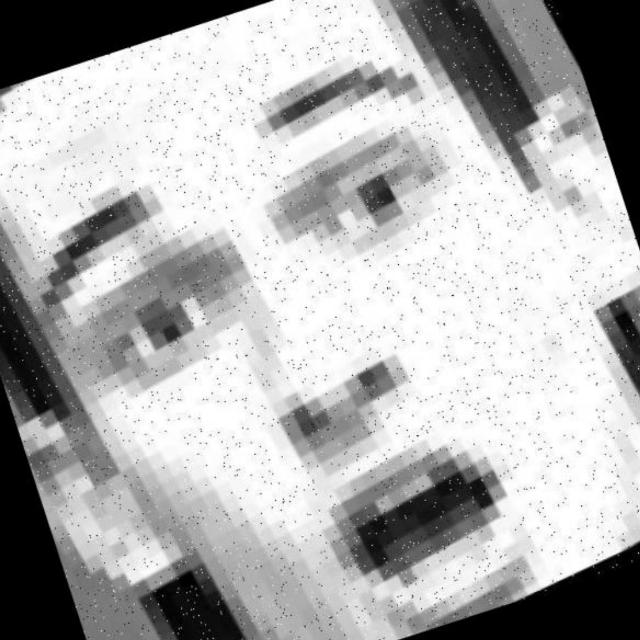Surprised: (0, 45, 625, 638)
